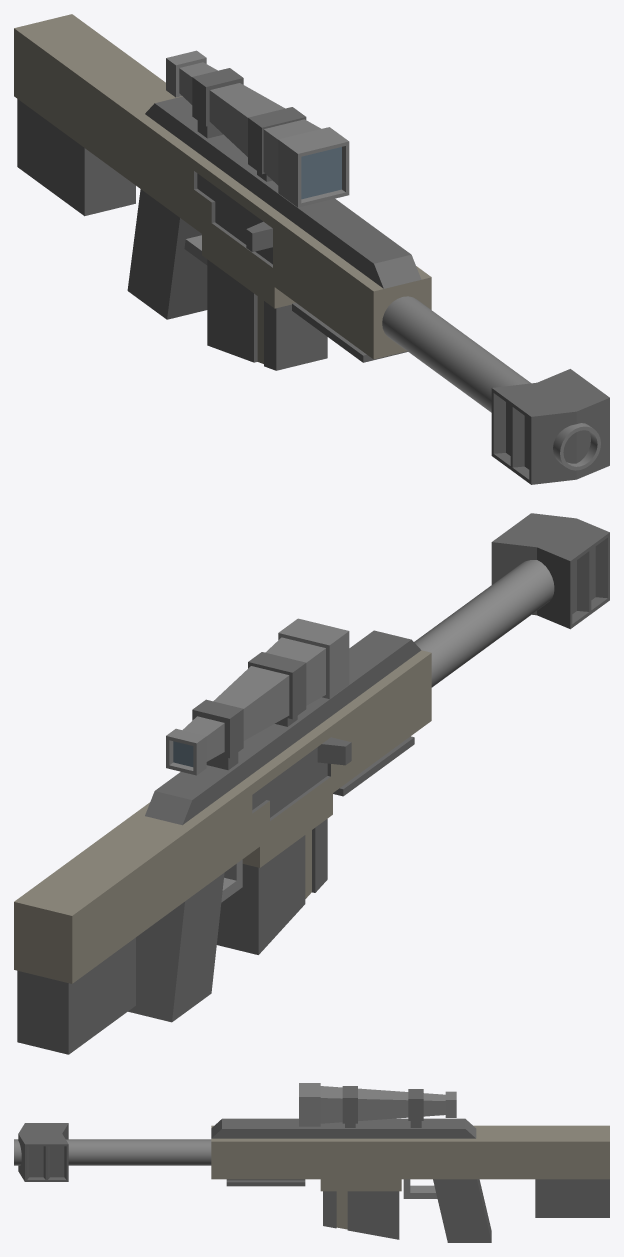
Rendered from sniperCamo.glb.
3 views of the same model, one above another, from view 1: azimuth 30°, elevation 25°; view 2: azimuth 150°, elevation 25°; view 3: azimuth 270°, elevation 25° (orthographic). The views are drawn at different scales.
Visible parts, largest first — view 1: sniperCamo; view 2: sniperCamo; view 3: sniperCamo.
Boxes of the visible parts, box(x1,y1,x2,y2) form: sniperCamo: box(14, 14, 609, 484); sniperCamo: box(14, 513, 609, 1054); sniperCamo: box(14, 1083, 609, 1242).
Size of the model in its own units: 0.0156 by 0.0444 by 0.1632.
